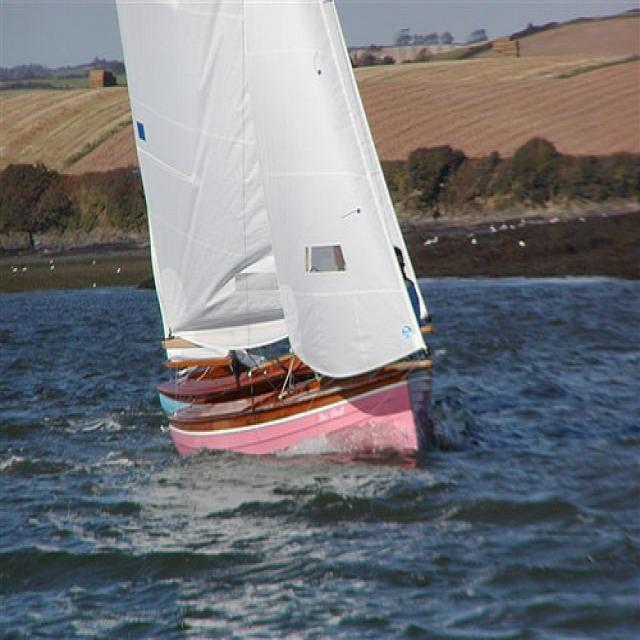Ship: (111, 1, 438, 460)
